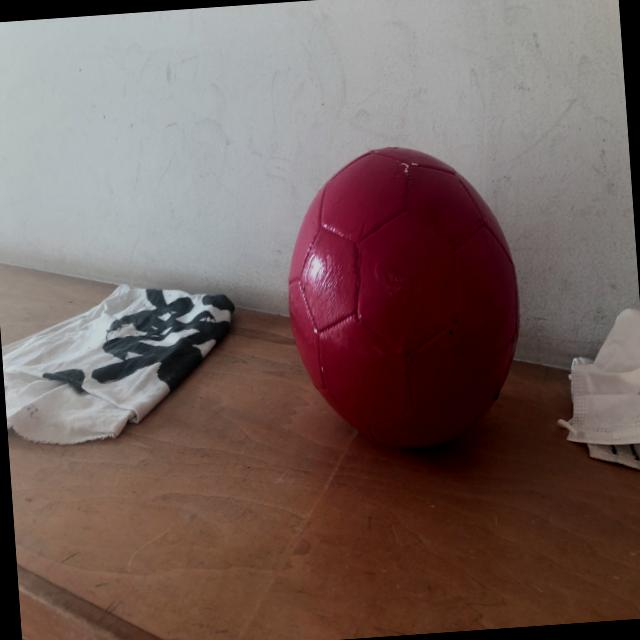red_ball: (278, 139, 530, 462)
